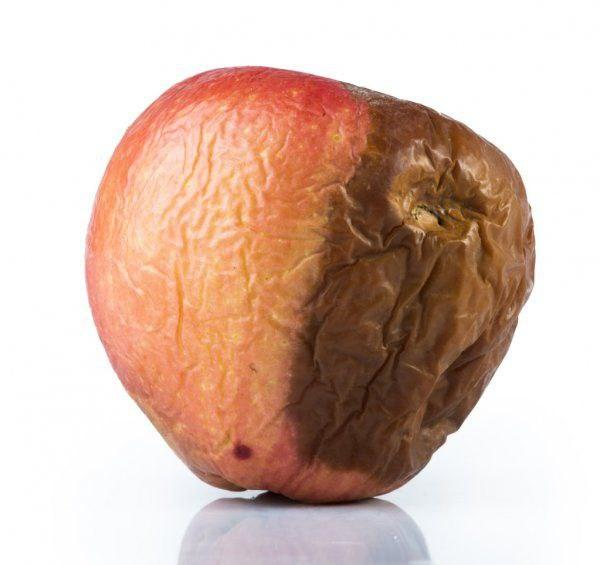Apple: (83, 64, 538, 500)
